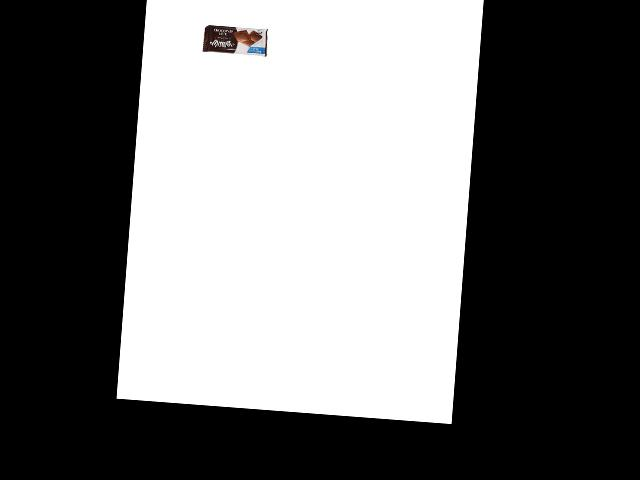chocolate: (203, 23, 269, 57)
